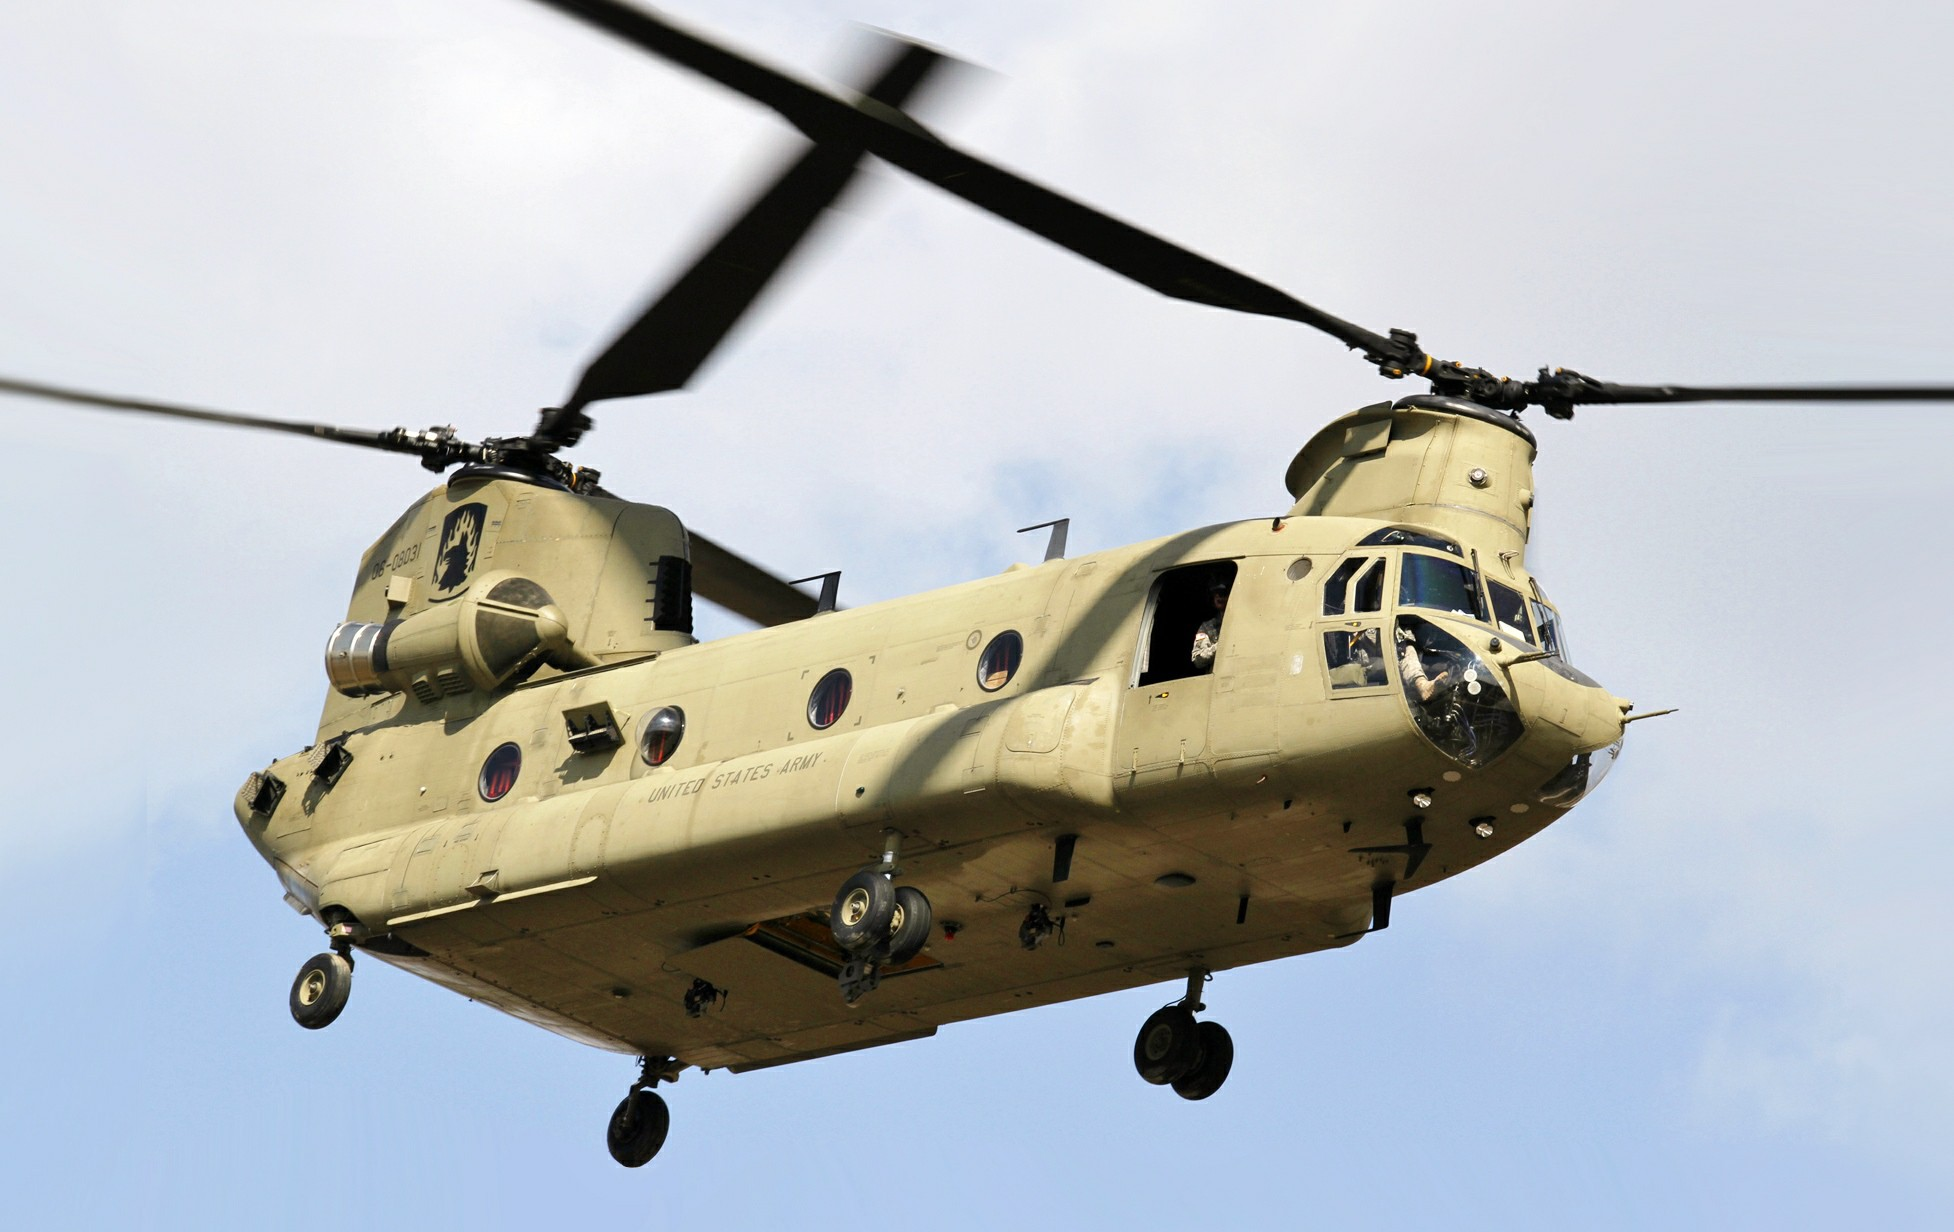chinook: (62, 51, 1858, 1155)
